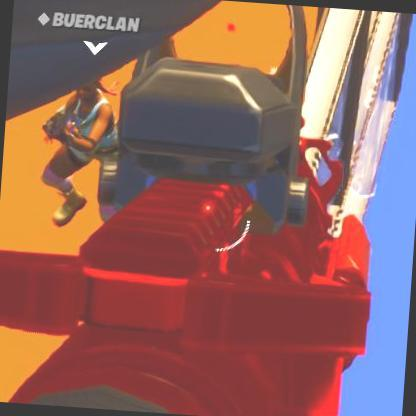person: (36, 82, 121, 230)
